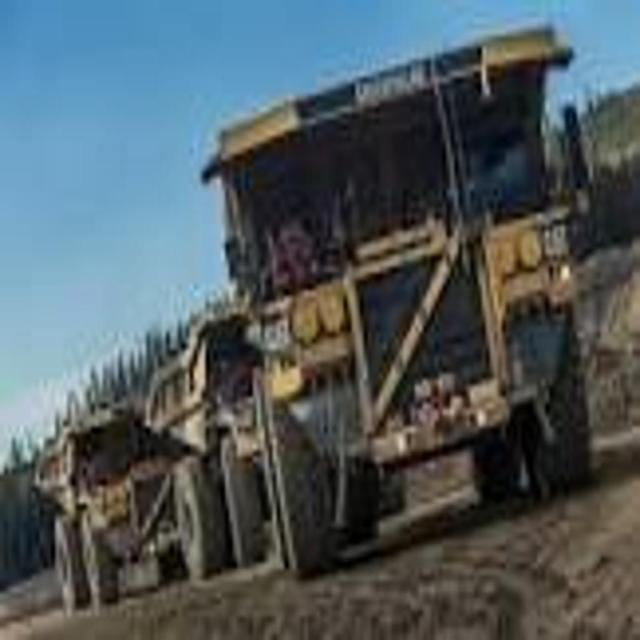dump_truck: (212, 26, 602, 544)
